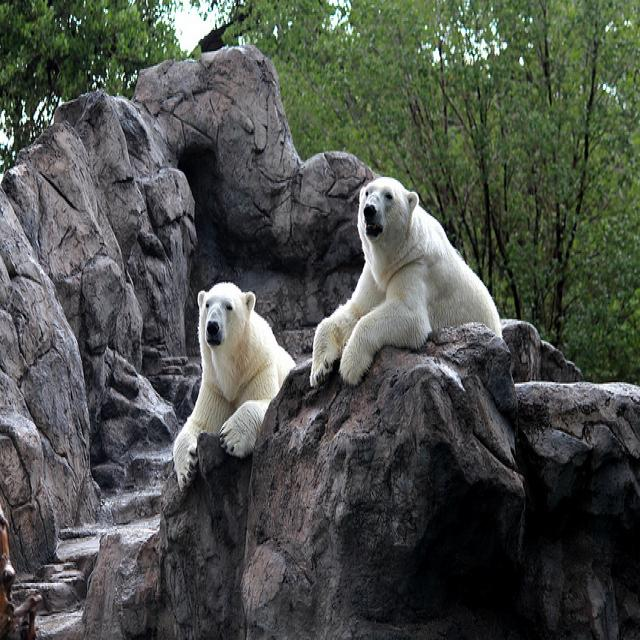Bear: (308, 168, 507, 388), (174, 280, 294, 456)
